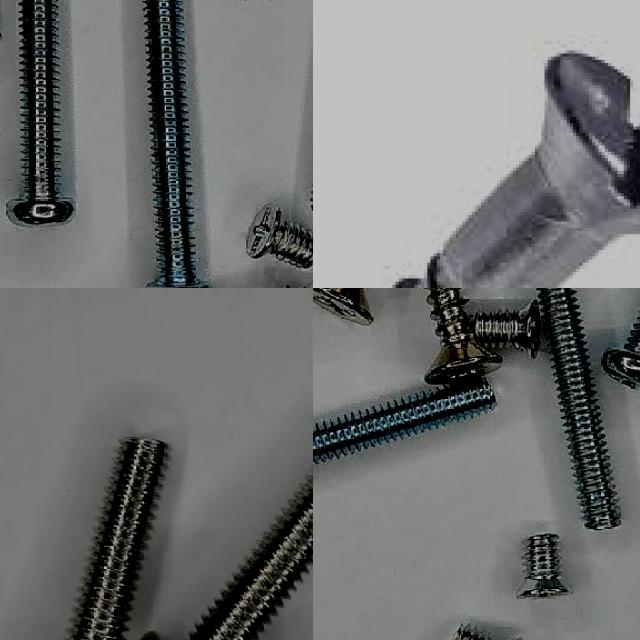Screw: (393, 54, 640, 288), (187, 475, 313, 640), (536, 288, 621, 531), (67, 438, 166, 640), (143, 0, 209, 288), (313, 379, 495, 465), (6, 0, 74, 226), (424, 288, 501, 384), (248, 206, 313, 269), (472, 301, 540, 357), (516, 535, 568, 597)
